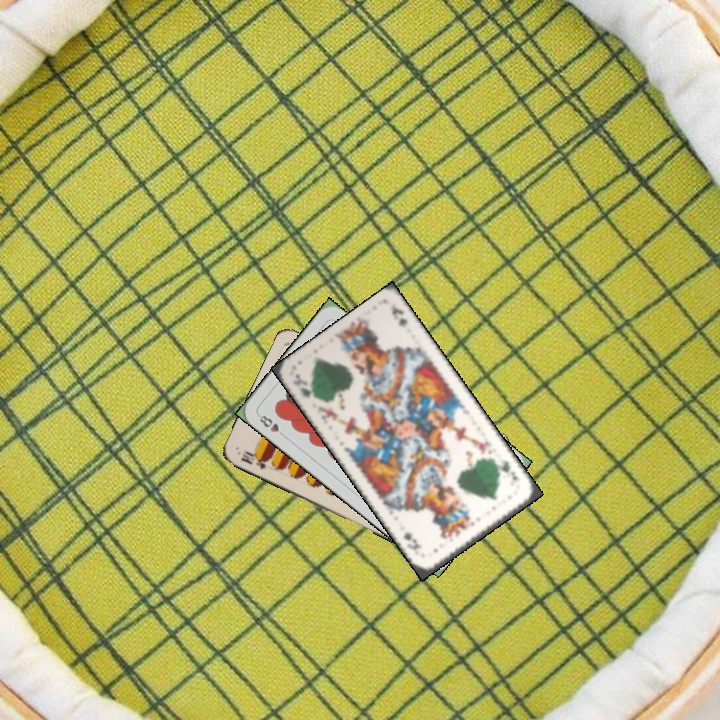E10: (237, 446, 271, 472)
GK: (291, 370, 321, 402), (492, 455, 520, 483)
H8: (254, 411, 288, 440)
